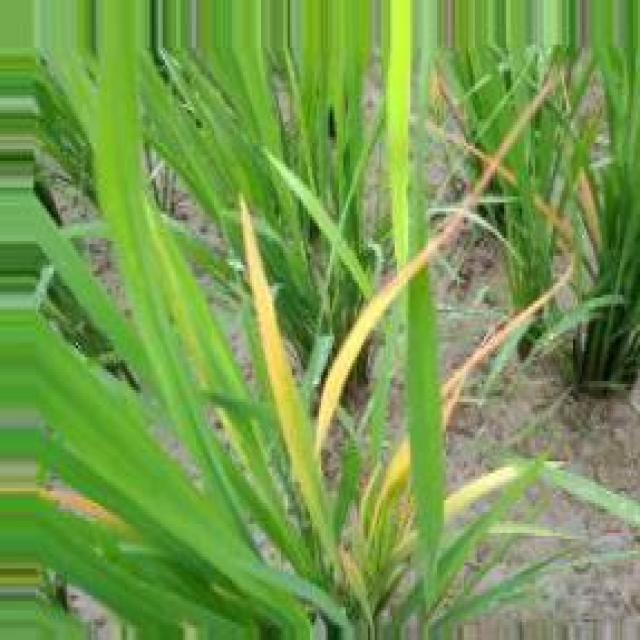Rice Tungro: (315, 214, 461, 453), (242, 199, 334, 560), (448, 466, 520, 521)
